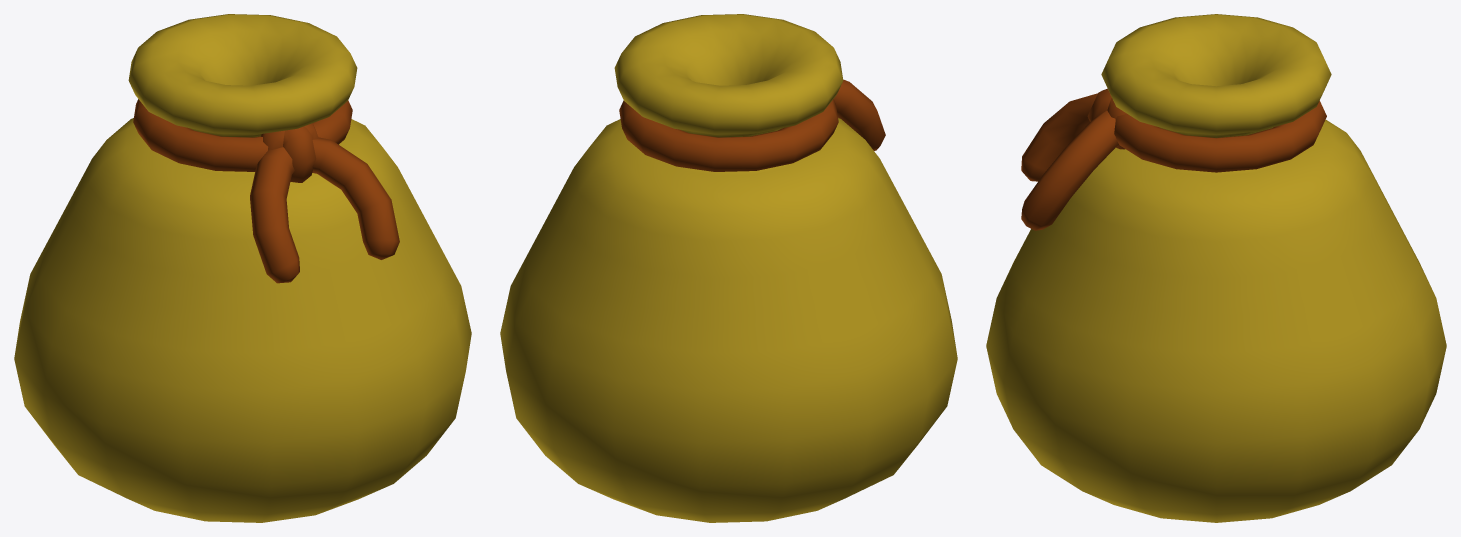
Rendered from LastLuna_Model_Sack.fbx.
3 renders of one model, left to right at view 1: azimuth 30°, elevation 25°; view 2: azimuth 150°, elevation 25°; view 3: azimuth 270°, elevation 25°, orthographic.
Visible parts, largest first — view 1: Sack001, Sack_Rope001, Sack_Rope_Knot_End002, Sack_Rope_Knot_End001, Sack_Rope_Knot001; view 2: Sack001, Sack_Rope001, Sack_Rope_Knot_End001; view 3: Sack001, Sack_Rope001, Sack_Rope_Knot_End002, Sack_Rope_Knot_End001, Sack_Rope_Knot001.
Part boxes in pixels (box(x1,y1,x2,y2)): Sack001: box(14, 14, 471, 522); Sack_Rope001: box(133, 99, 352, 171); Sack_Rope_Knot_End002: box(312, 137, 399, 259); Sack_Rope_Knot_End001: box(250, 147, 299, 283); Sack_Rope_Knot001: box(261, 123, 318, 182); Sack001: box(500, 14, 957, 522); Sack_Rope001: box(619, 99, 838, 171); Sack_Rope_Knot_End001: box(834, 79, 885, 150); Sack001: box(986, 14, 1446, 522); Sack_Rope001: box(1114, 101, 1326, 172); Sack_Rope_Knot_End002: box(1021, 111, 1118, 230); Sack_Rope_Knot_End001: box(1021, 93, 1097, 181); Sack_Rope_Knot001: box(1087, 88, 1125, 149).
Size of the model in its own units: 125 by 125 by 125.
